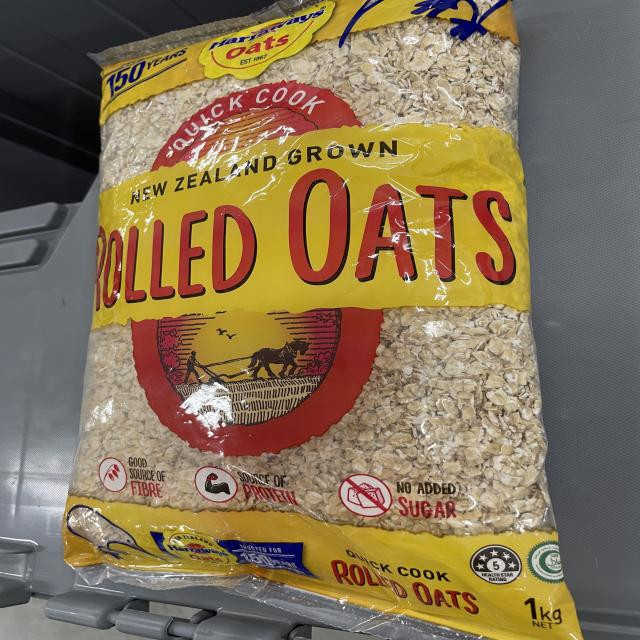object_name: (95, 33, 546, 607)
